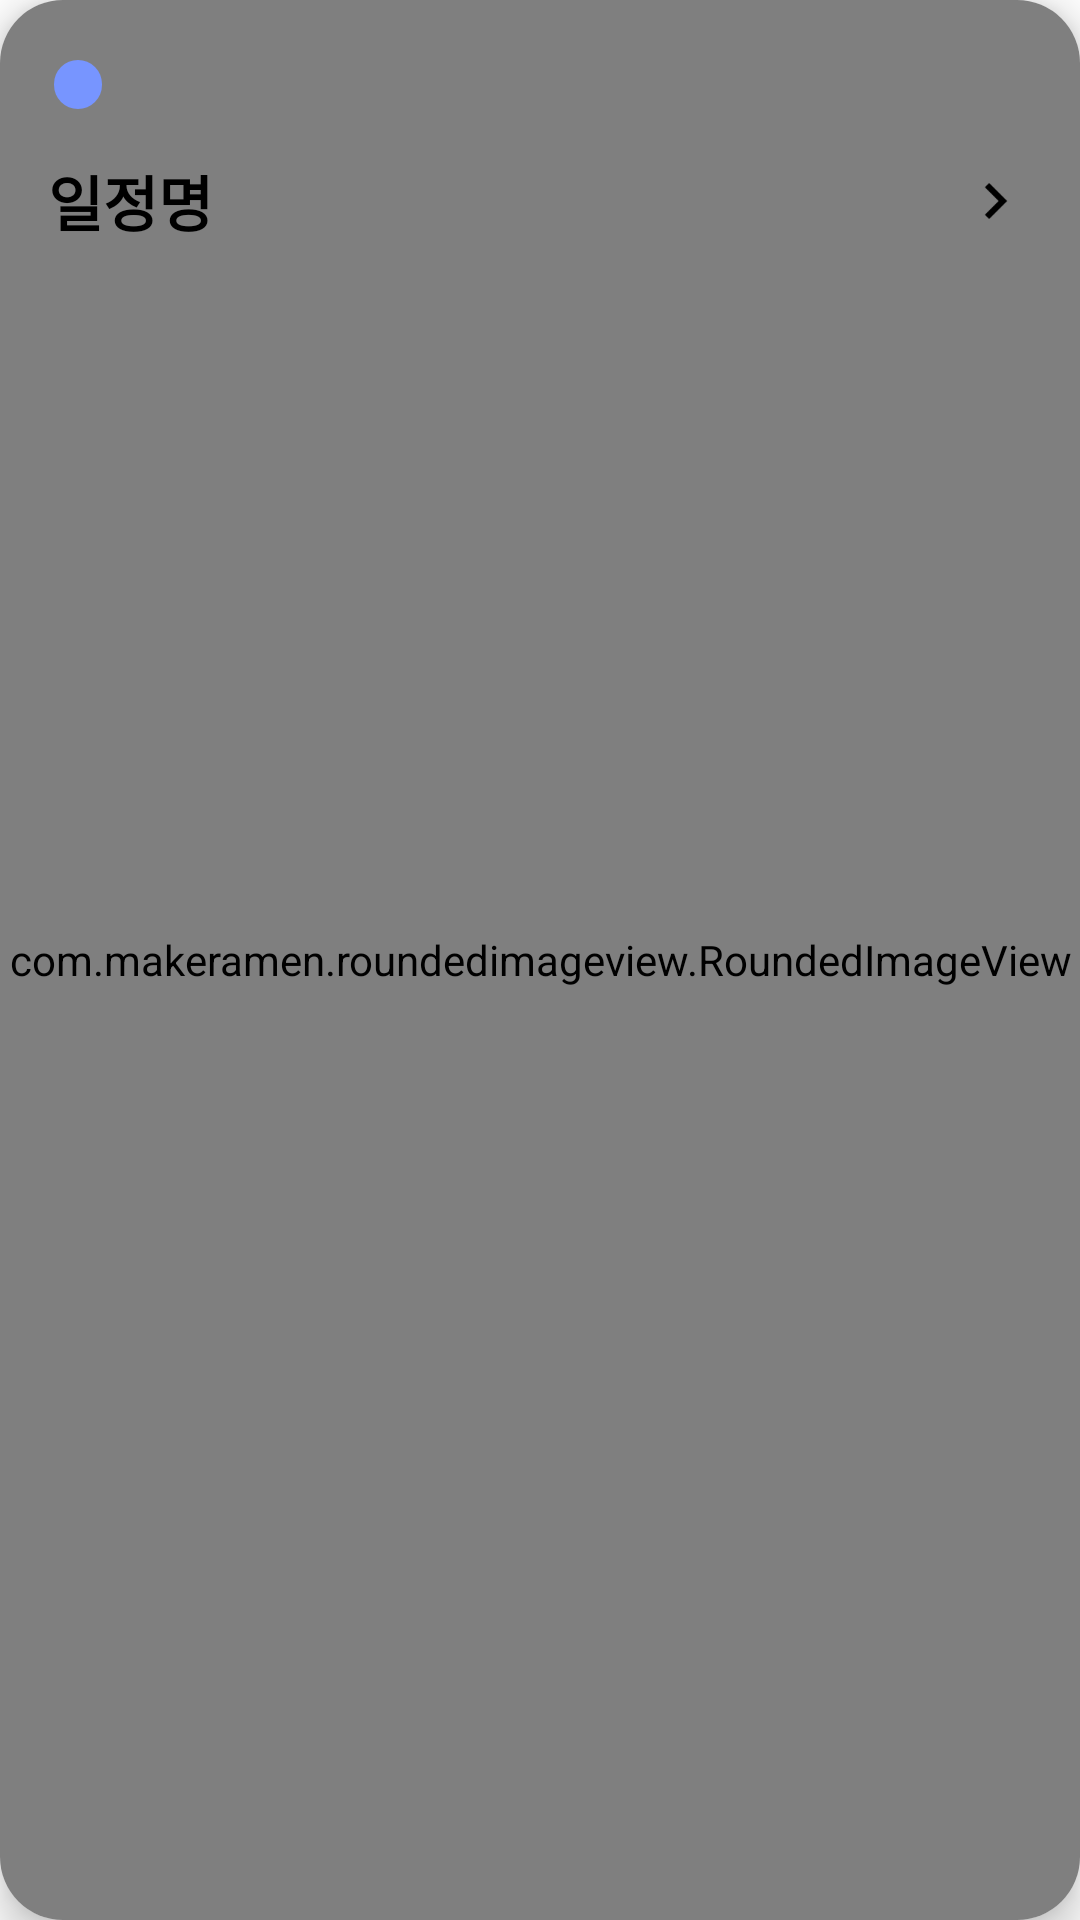

Icons on this 1080x1920 Android screen, each with the point to tap as (x=x, y=y):
arrow right: (x=996, y=201)
